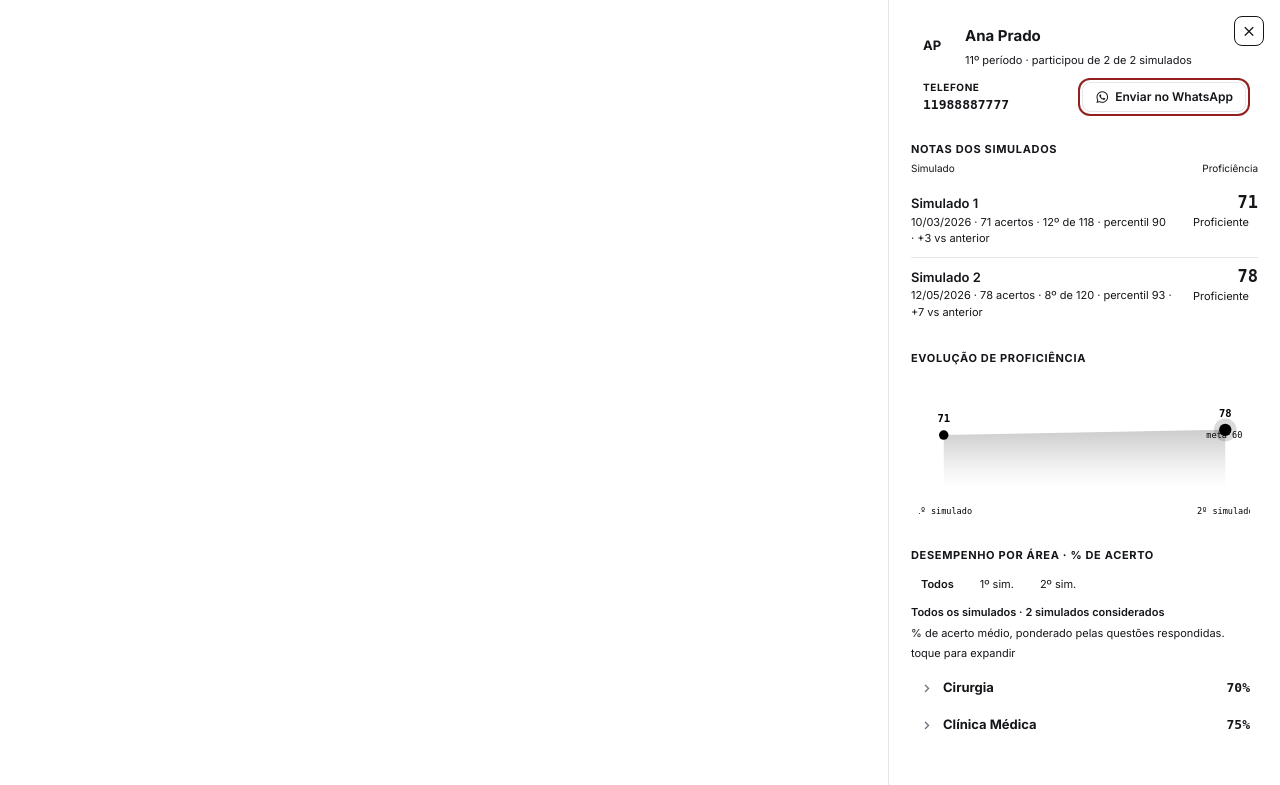
it: DrawerAluno — recorte consolidado do bloco de área › trocar para um simulado individual volta ao % oficial da RPC daquele simulado
Click the button "2º sim." at point(1058, 584), box left=1030, top=572, right=1086, bottom=596
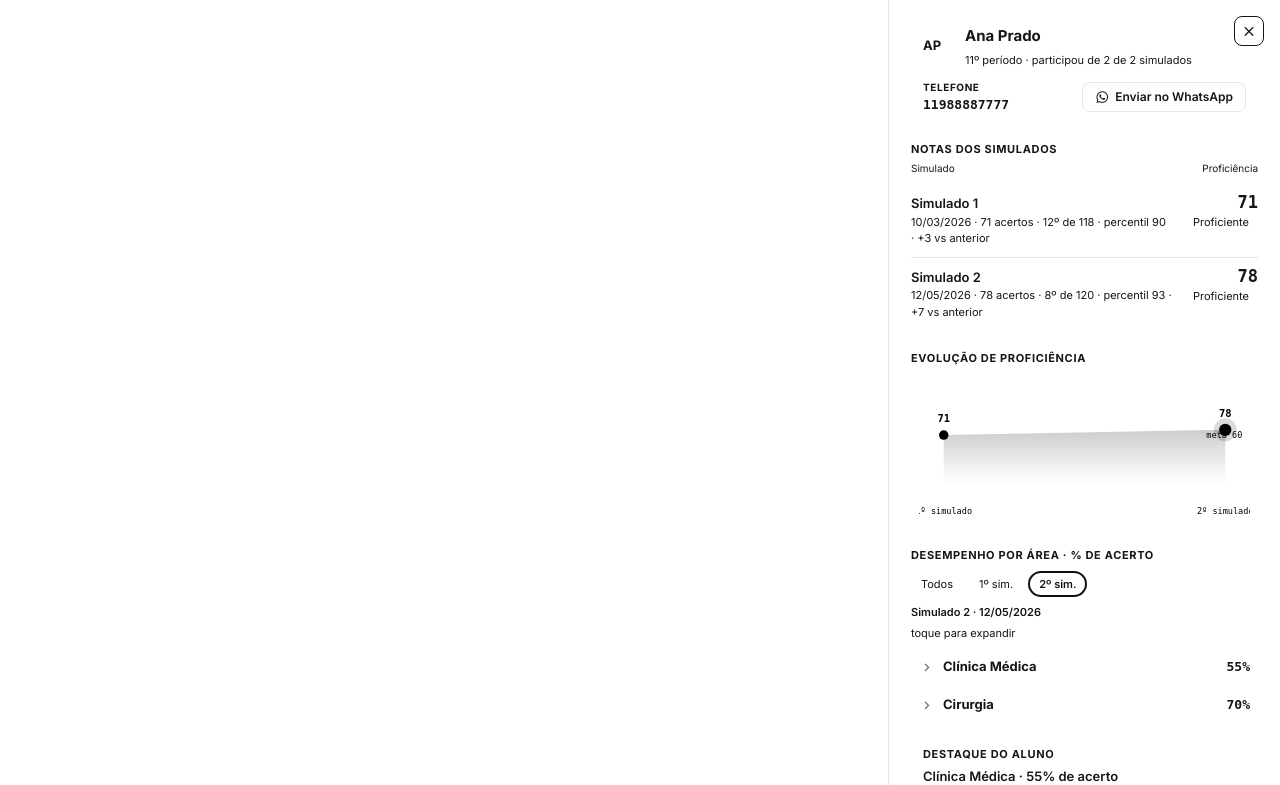
Expected: the element with test id "drawer-areas" shows "Simulado 2", left=911, top=605, right=1041, bottom=619
Expected: the button with test id "drawer-grande-area-Clínica Médica" shows "55%", left=911, top=649, right=1258, bottom=685
Expected: the text with test id "rotulo-areas-consolidado" is gone
